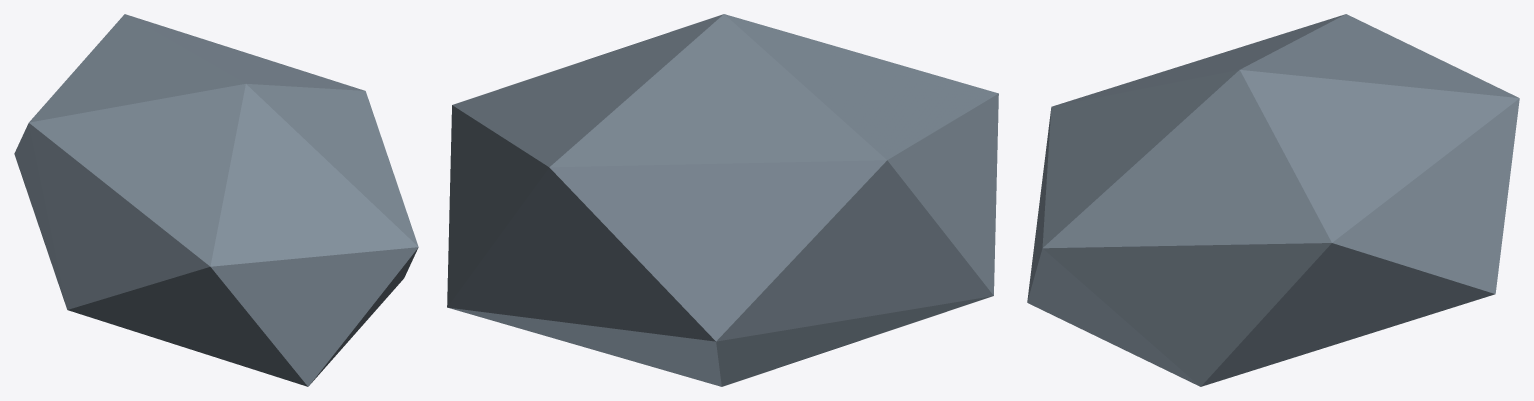
Rendered from INT_C_WallRubble_00_Stone_3.glb.
3 renders of one model, left to right at view 1: azimuth 30°, elevation 25°; view 2: azimuth 150°, elevation 25°; view 3: azimuth 270°, elevation 25°, orthographic. The views are drawn at different scales.
Visible parts, largest first — view 1: INT_C_WallRubble_00_Stone_3; view 2: INT_C_WallRubble_00_Stone_3; view 3: INT_C_WallRubble_00_Stone_3.
Boxes of the visible parts, <box> form: INT_C_WallRubble_00_Stone_3: <box>14,14,418,386</box>; INT_C_WallRubble_00_Stone_3: <box>447,14,998,386</box>; INT_C_WallRubble_00_Stone_3: <box>1027,14,1519,386</box>.
Bounding box in the file's own units: 0.3152 × 0.2134 × 0.3439.
